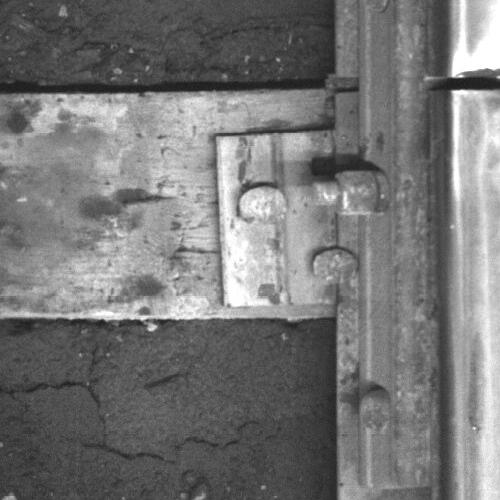do: (214, 129, 360, 304)
fp_end: (358, 471, 433, 500)
hole_do: (301, 147, 343, 186)
joint: (425, 72, 500, 93)
rail: (450, 1, 500, 500)
tie_wood: (1, 93, 338, 321)
